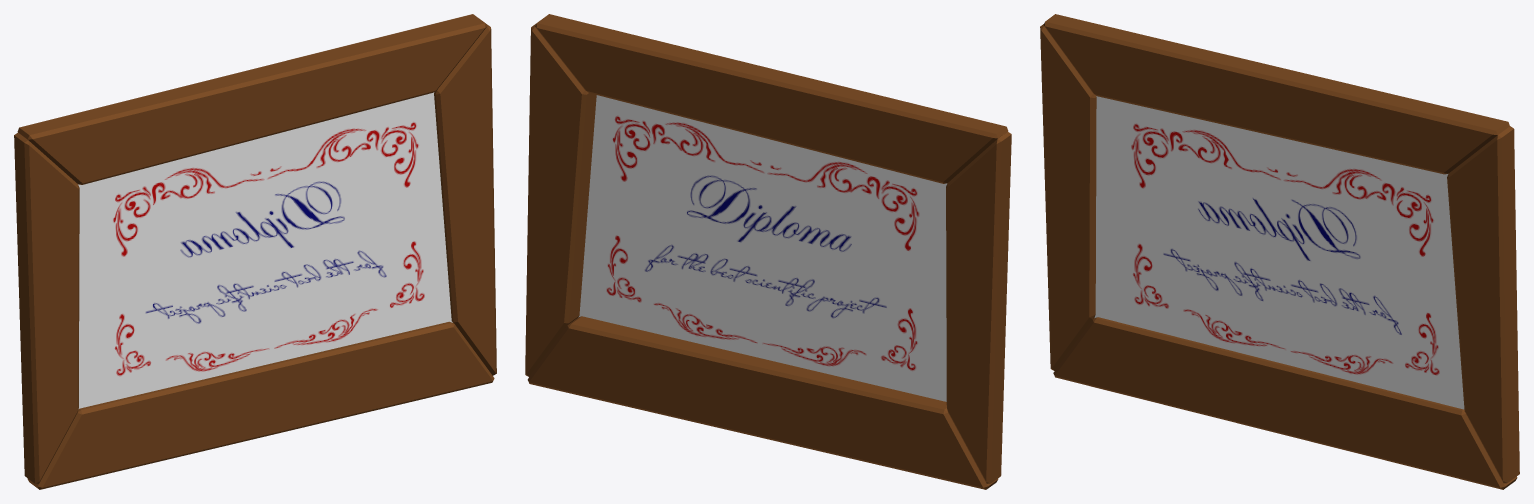
Rendered from Picture1.fbx.
3 views of the same model, side by side, from view 1: azimuth 30°, elevation 25°; view 2: azimuth 150°, elevation 25°; view 3: azimuth 330°, elevation 25° (orthographic).
Visible parts, largest first — view 1: Picture1; view 2: Picture1; view 3: Picture1.
Part boxes in pixels (bbox=[...]): Picture1: bbox=[14, 14, 496, 489]; Picture1: bbox=[525, 14, 1011, 489]; Picture1: bbox=[1040, 14, 1519, 489].
Size of the model in its own units: 0.6678 by 0.488 by 0.0388.
